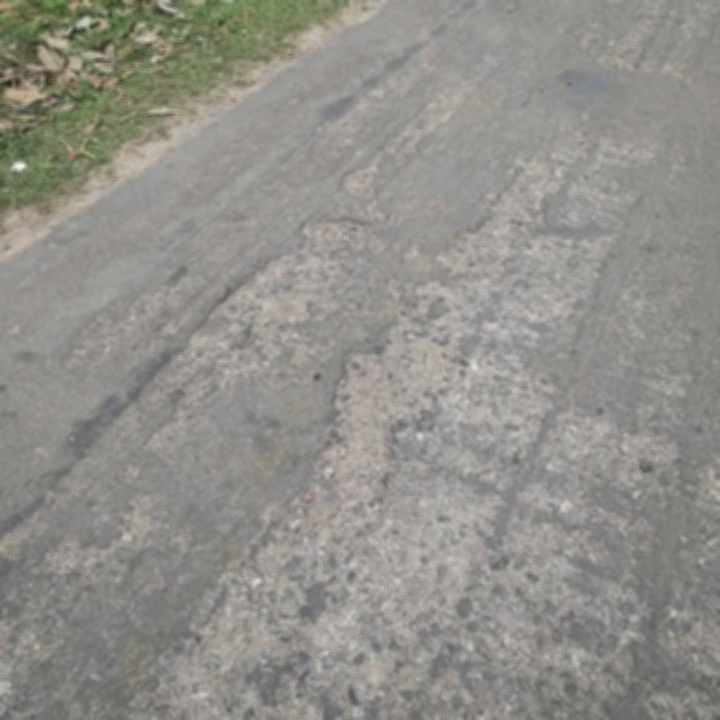pothole: (192, 210, 375, 358), (318, 321, 460, 484)
